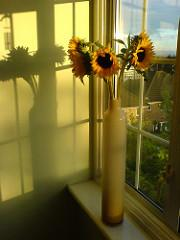sunflower: (67, 40, 89, 79), (91, 49, 118, 74), (133, 39, 153, 70)
